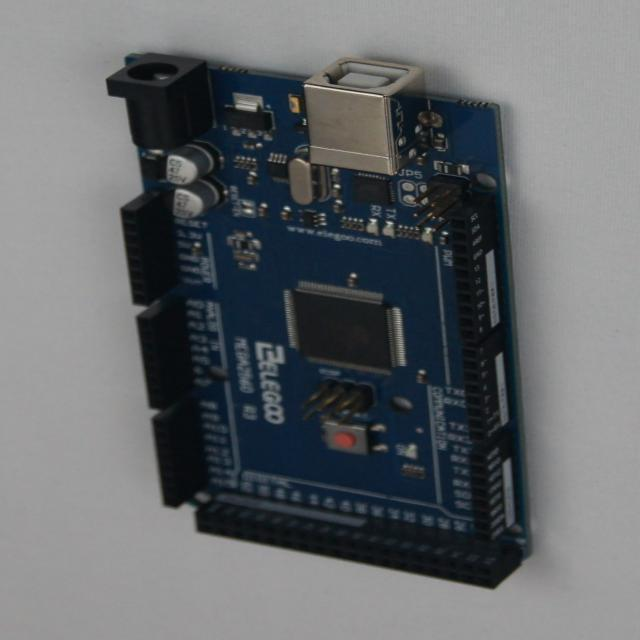Arduino Mega 2560 -Blue-: (107, 54, 530, 588)
